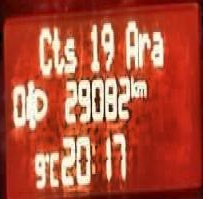0: (75, 131, 91, 184), (10, 78, 25, 126), (90, 73, 103, 121)
1: (103, 133, 112, 184), (89, 21, 98, 71)
2: (62, 133, 74, 186), (63, 78, 76, 124), (117, 73, 129, 119)
7: (112, 131, 126, 177)
8: (104, 74, 116, 119)
9: (99, 19, 114, 69), (78, 74, 90, 122), (34, 151, 44, 188)
X: (38, 21, 51, 78), (124, 16, 137, 67), (51, 21, 63, 76), (63, 32, 76, 73), (151, 28, 164, 67), (137, 26, 150, 65), (49, 145, 58, 186), (90, 136, 97, 174), (136, 76, 147, 99), (130, 72, 136, 99)
